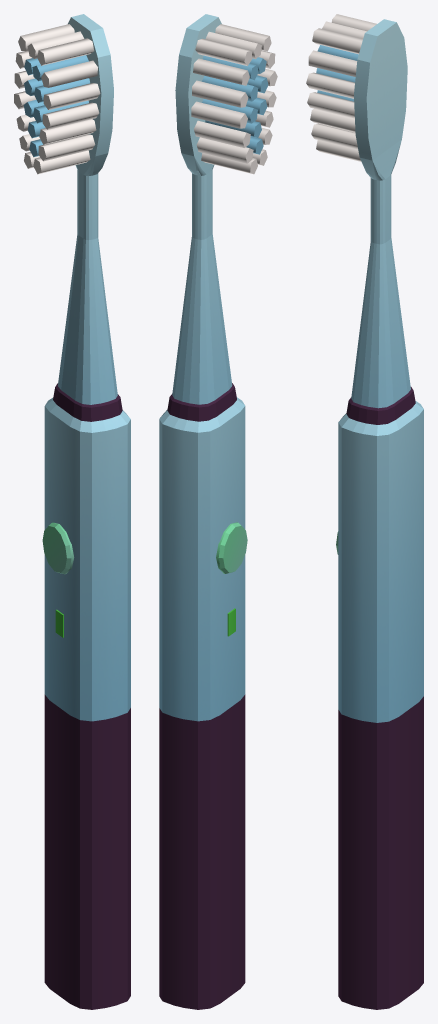
The model's file is Electric Toothbrush.FBX.
The picture shows the model from 3 angles, left to right: view 1: azimuth 30°, elevation 25°; view 2: azimuth 150°, elevation 25°; view 3: azimuth 330°, elevation 25°; orthographic projection.
Parts seen in each view (by area): view 1: Electric Toothbush; view 2: Electric Toothbush; view 3: Electric Toothbush.
Boxes of the visible parts, x1=… form: Electric Toothbush: x1=14, y1=14, x2=130, y2=1009; Electric Toothbush: x1=159, y1=14, x2=277, y2=1009; Electric Toothbush: x1=306, y1=14, x2=423, y2=1009.
Bounding box in the file's own units: 3.04 × 33.49 × 2.95.
